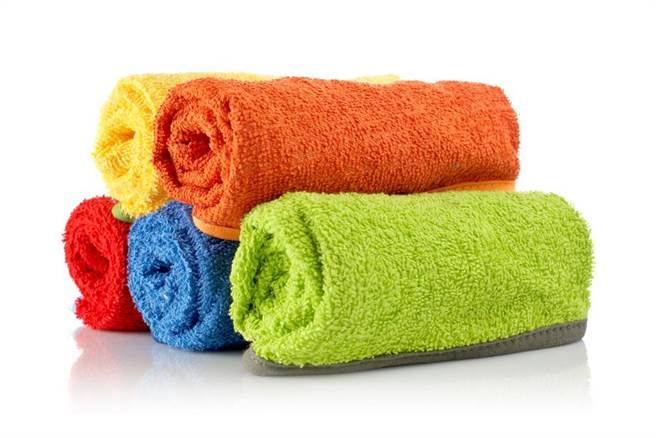flexible: (66, 68, 596, 373)
